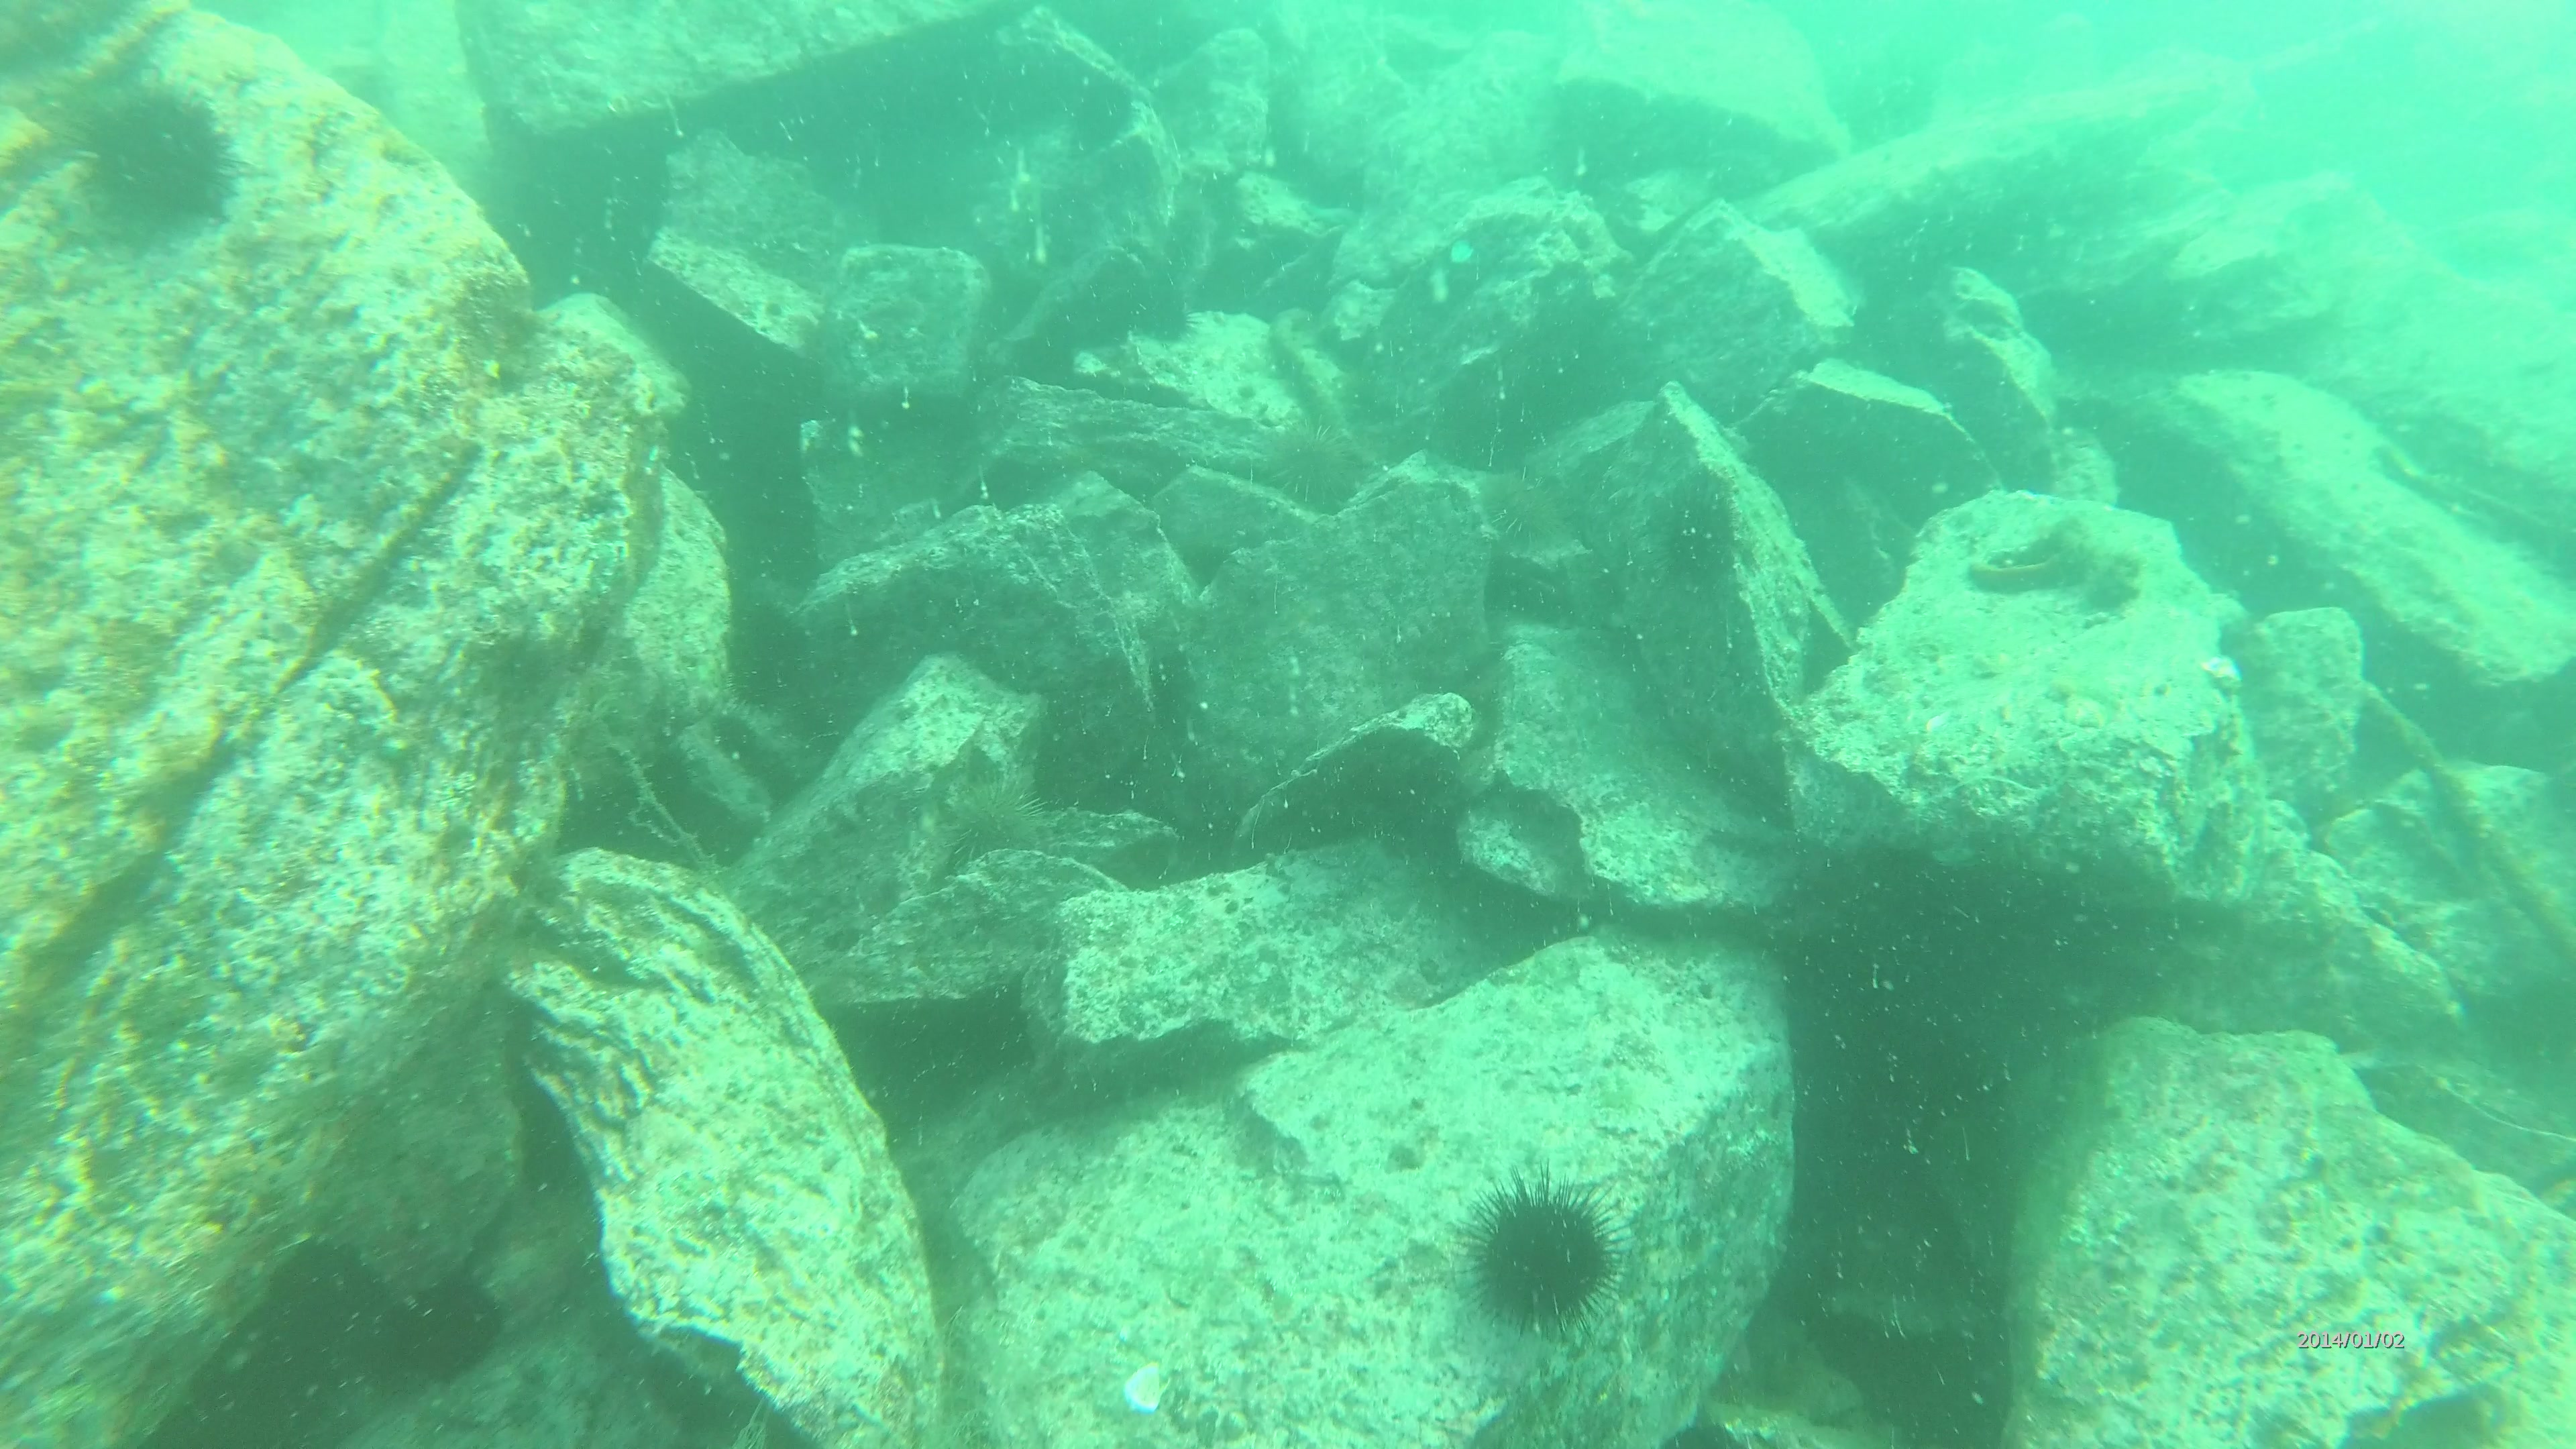echinus: (1440, 1171, 1637, 1350), (58, 74, 260, 244), (932, 770, 1074, 879), (386, 1265, 513, 1376)
